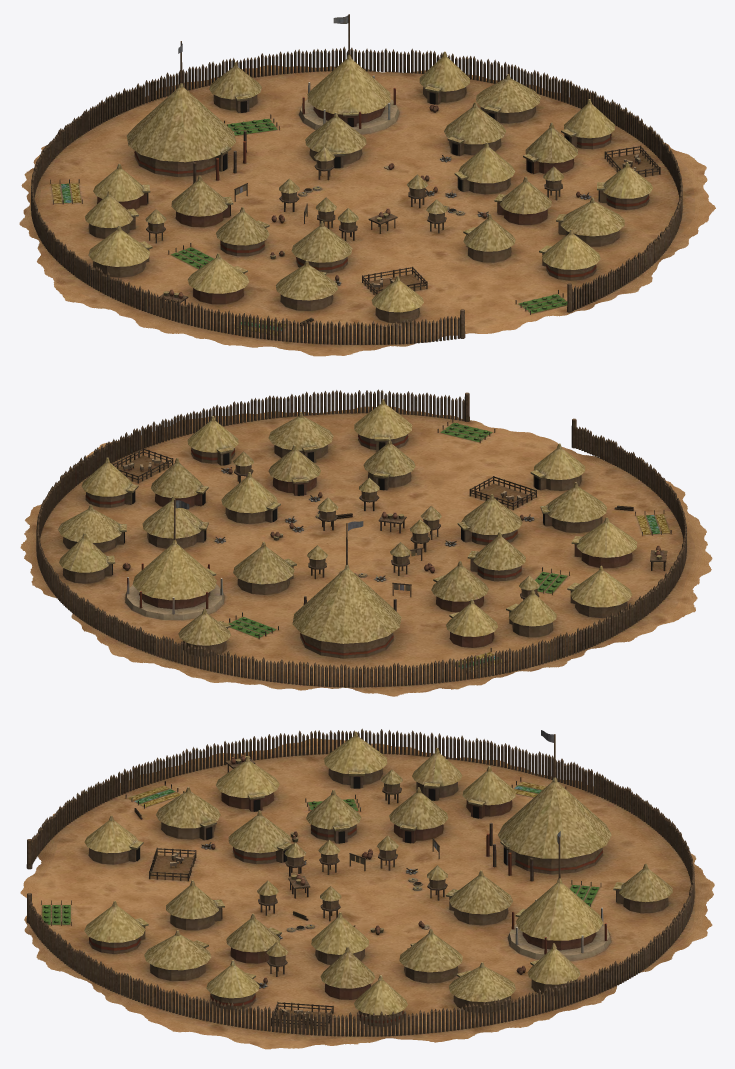
Rendered from stone-town-big-a.glb.
3 views of the same model, one above another, from view 1: azimuth 30°, elevation 25°; view 2: azimuth 150°, elevation 25°; view 3: azimuth 270°, elevation 25° (orthographic). The views are drawn at different scales.
Parts seen in each view (by area): view 1: LOD0; view 2: LOD0; view 3: LOD0.
Part boxes in pixels (box(x1,y1,x2,y2)): LOD0: box(19, 14, 715, 356); LOD0: box(20, 389, 712, 696); LOD0: box(20, 728, 714, 1049).
Size of what is drawn, in the model's own units: 8.1 by 1.45 by 7.6.
3 materials, 3 textured.
